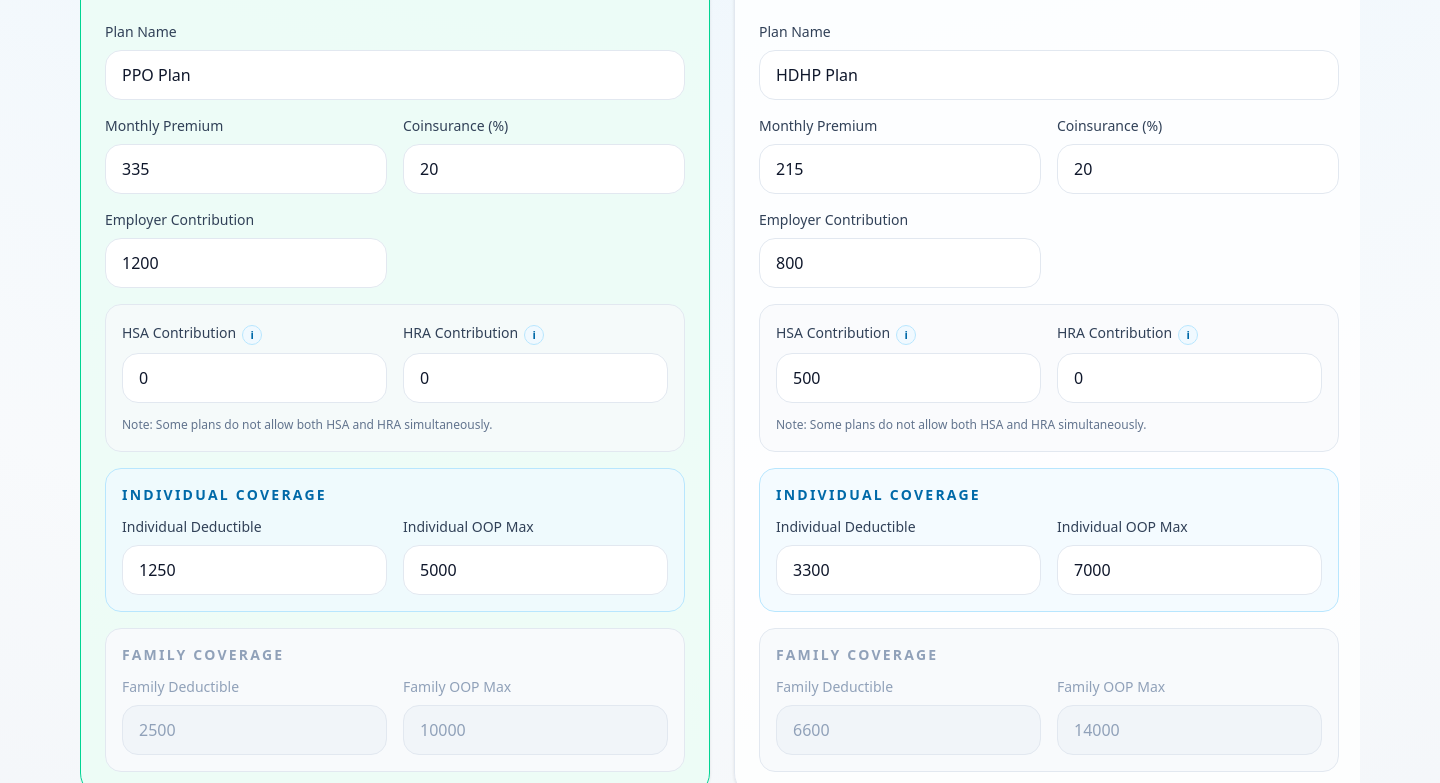
Test: App integration › allows a numeric field to stay empty while active and defaults it back to zero on blur
(page scrolled)
Clear the 1st number field named "HRA Contribution" at [536, 378], box [403,353,668,403]
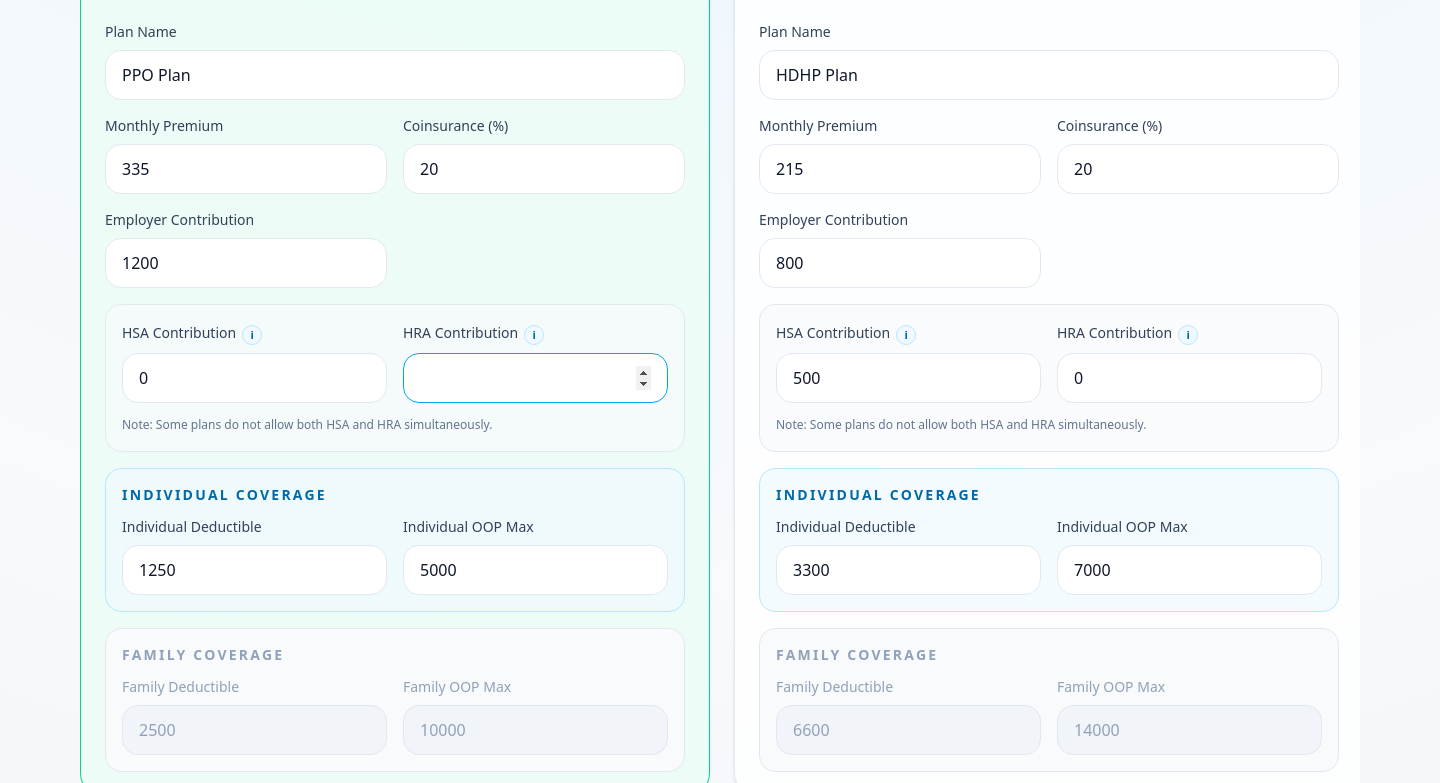
Press Tab
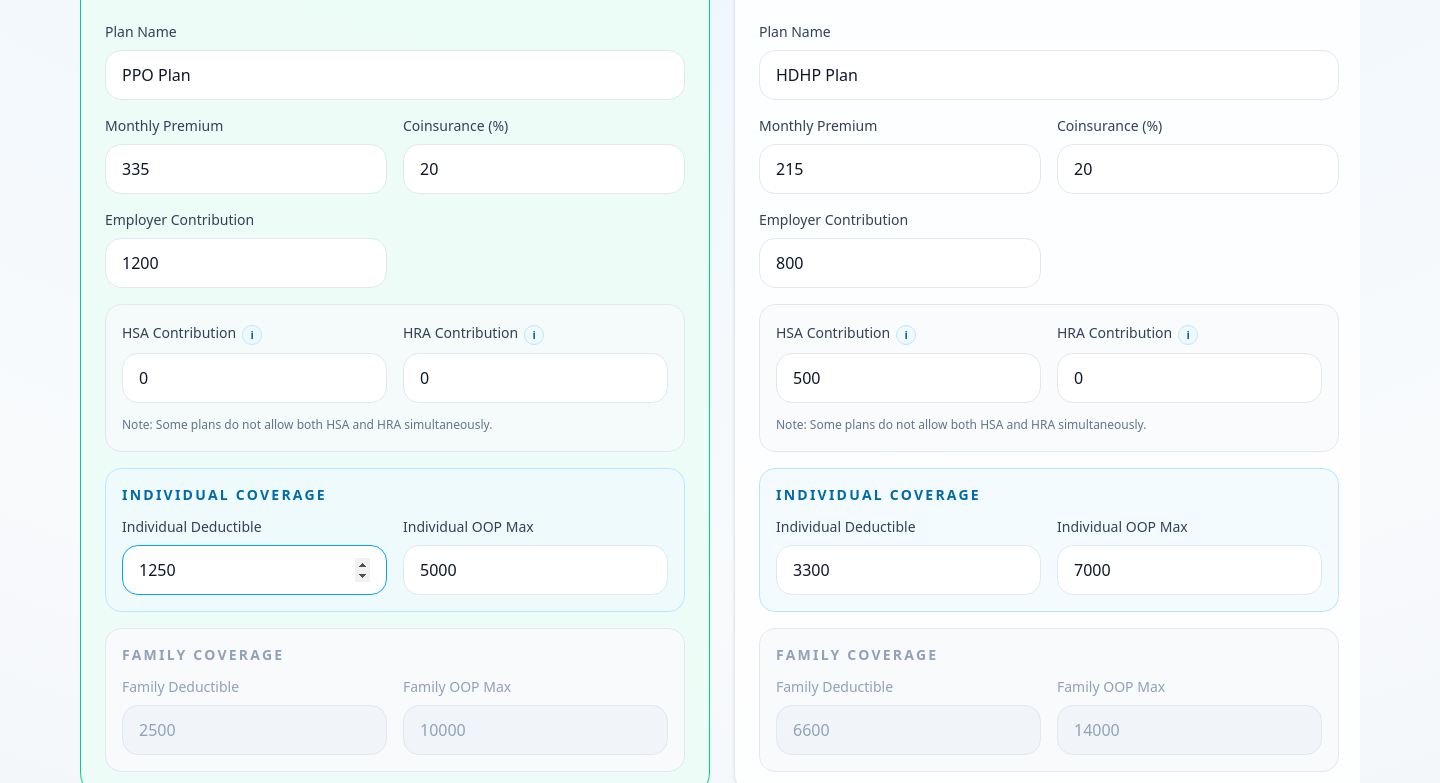
Now the 1st number field named "HRA Contribution" holds "0", box [403,353,668,403]
